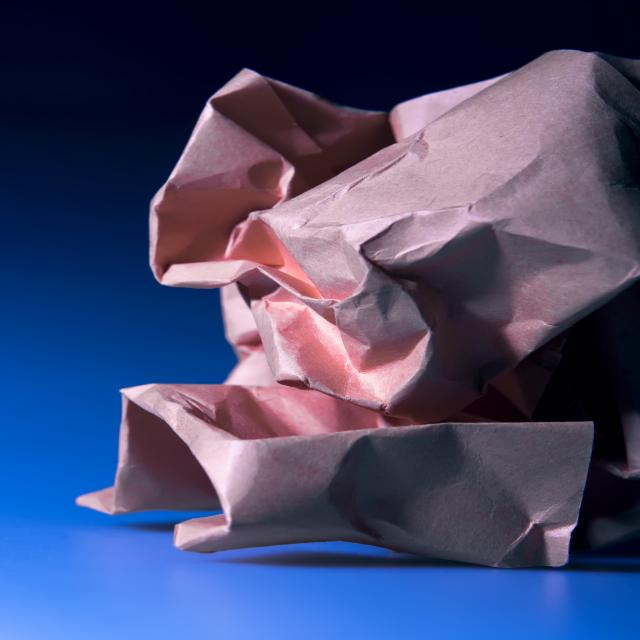paper: (159, 105, 594, 560)
